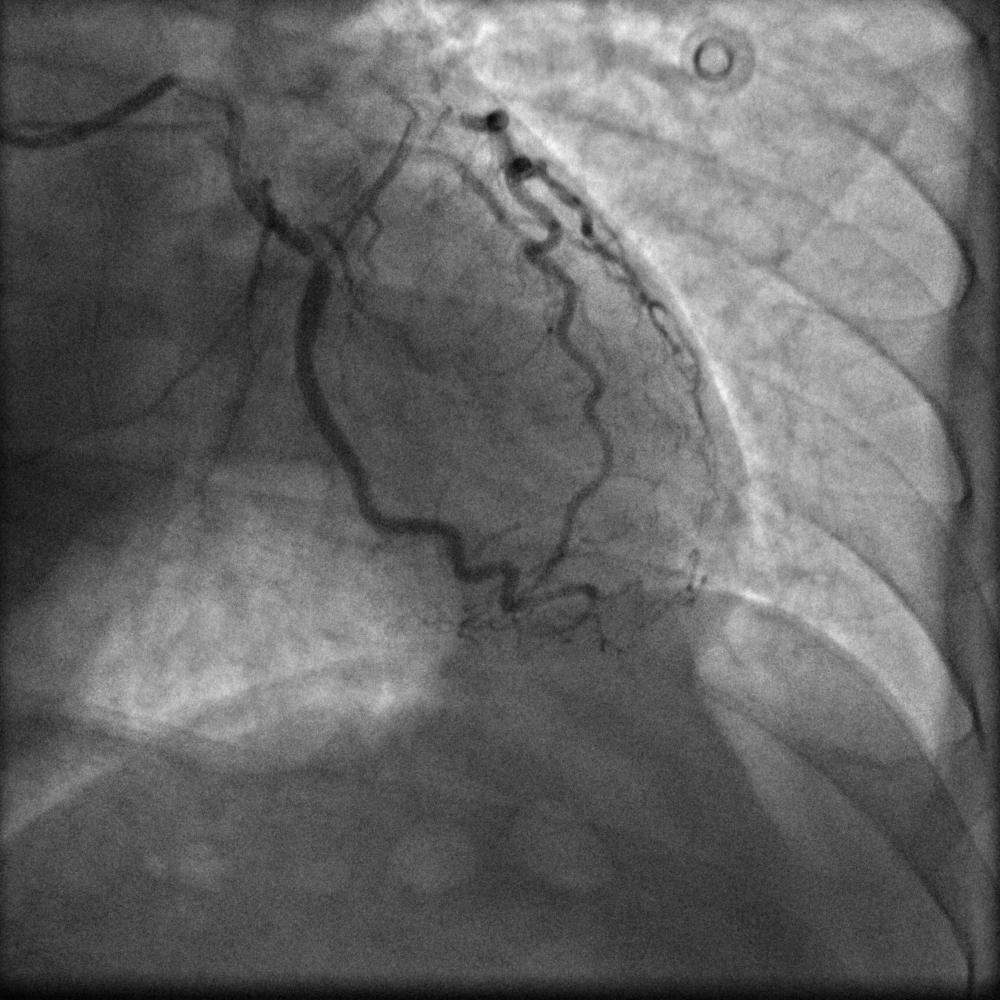Stenosis: (305, 240, 331, 284)
